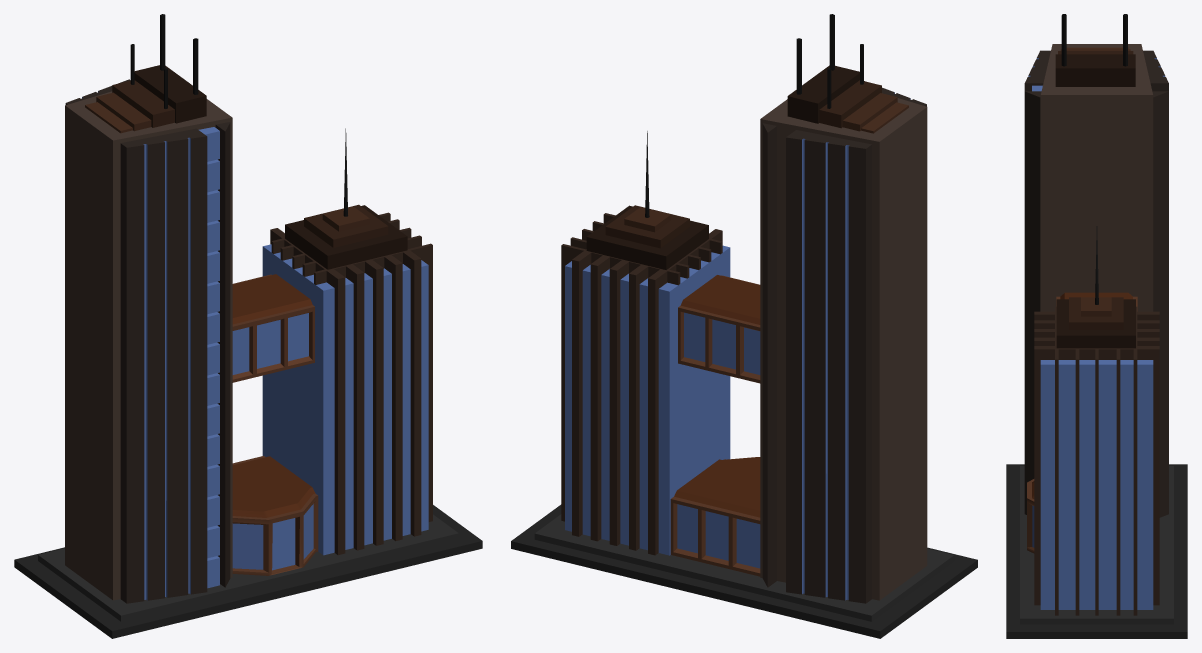
File: BoxBuilding 04.fbx
3 renders of one model, left to right at view 1: azimuth 30°, elevation 25°; view 2: azimuth 150°, elevation 25°; view 3: azimuth 270°, elevation 25°, orthographic. The views are drawn at different scales.
Visible parts, largest first — view 1: Box_Building_4; view 2: Box_Building_4; view 3: Box_Building_4.
Boxes of the visible parts, bbox=[...] form: Box_Building_4: bbox=[14, 14, 482, 638]; Box_Building_4: bbox=[511, 14, 977, 638]; Box_Building_4: bbox=[1006, 14, 1187, 638].
Size of the model in its own units: 2388 by 3380 by 1093.
